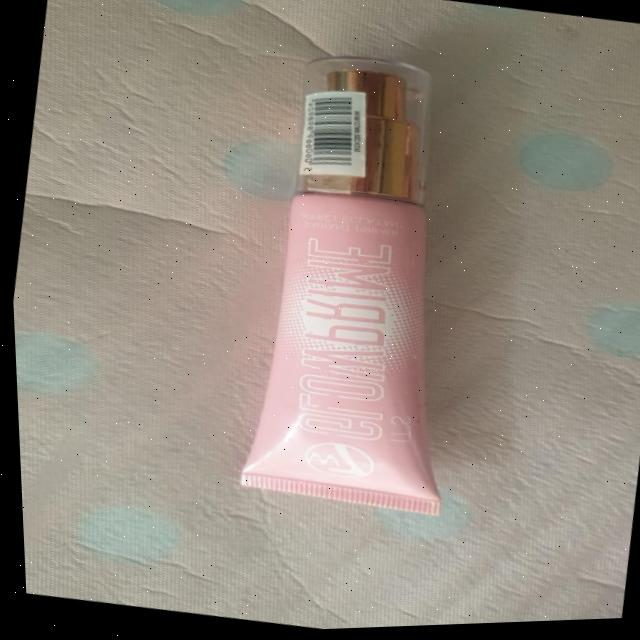primer: (172, 28, 548, 553)
